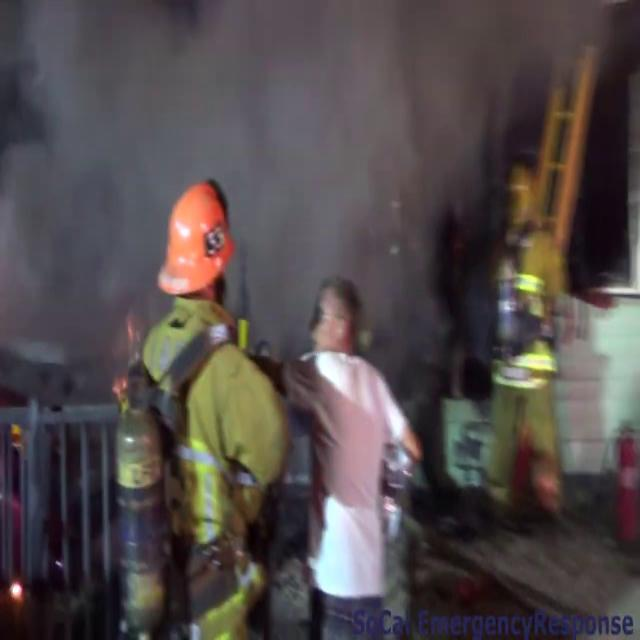Smoke: (1, 0, 577, 312)
